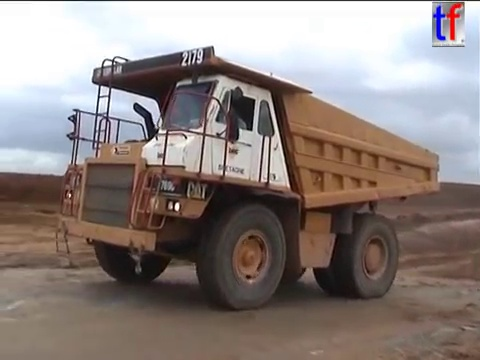truck: (52, 42, 443, 313)
